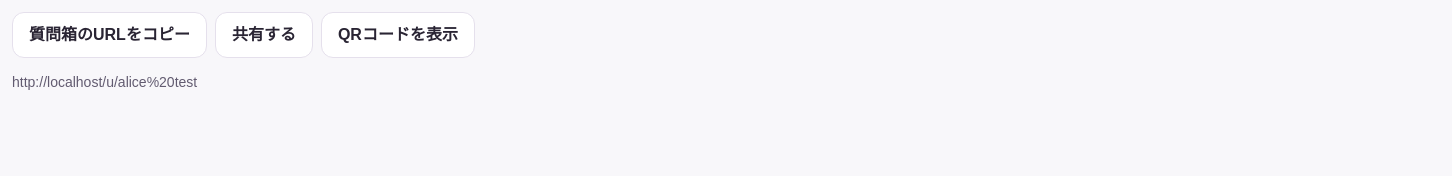
Test case: キャンセルをfeedbackし勝手にコピーしない
The image size is (1452, 176).
Click the button "共有する" at (264, 35), box [215,12,313,58]
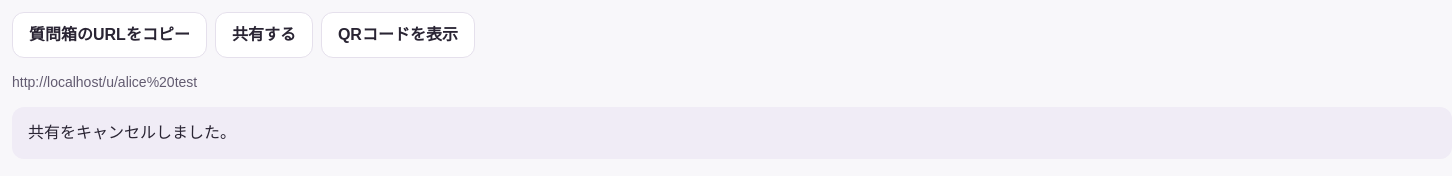
Expected: the message shows "キャンセル", [28,124,236,140]
